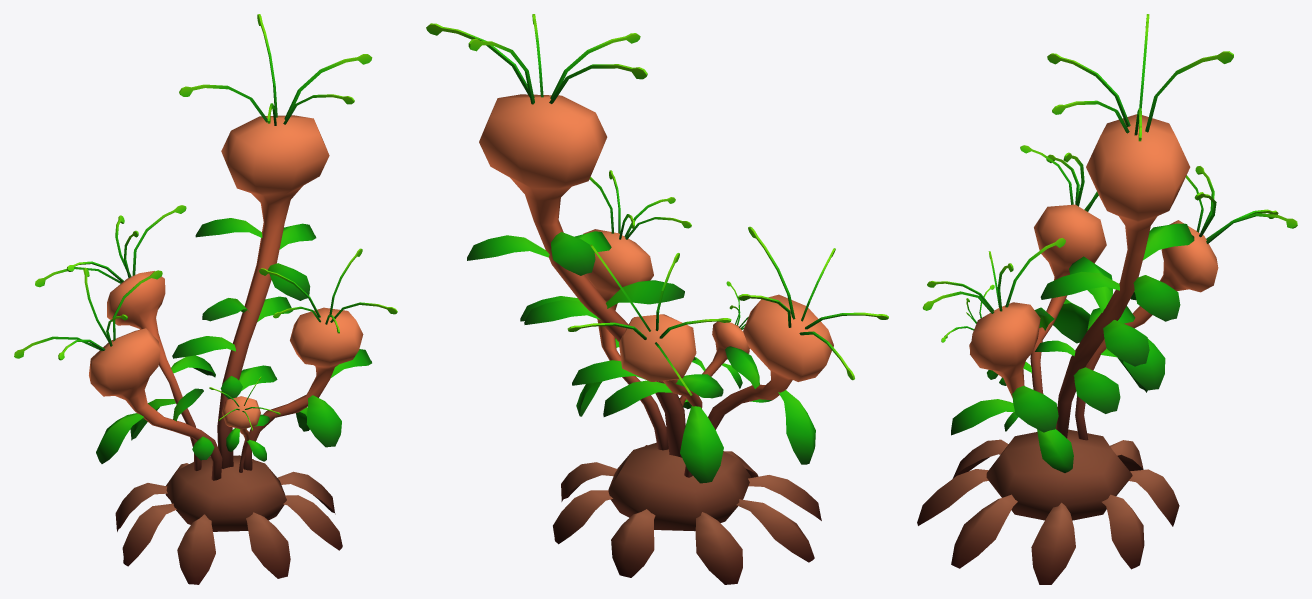
The model's file is wp_noPot_27.fbx.
The picture shows the model from 3 angles, left to right: view 1: azimuth 30°, elevation 25°; view 2: azimuth 150°, elevation 25°; view 3: azimuth 270°, elevation 25°; orthographic projection. The views are drawn at different scales.
Visible parts, largest first — view 1: w_pl27.003; view 2: w_pl27.003; view 3: w_pl27.003.
Boxes of the visible parts, bbox=[...] form: w_pl27.003: bbox=[14, 14, 397, 584]; w_pl27.003: bbox=[426, 14, 888, 584]; w_pl27.003: bbox=[917, 14, 1297, 584].
Size of the model in its own units: 135 by 160 by 103.
